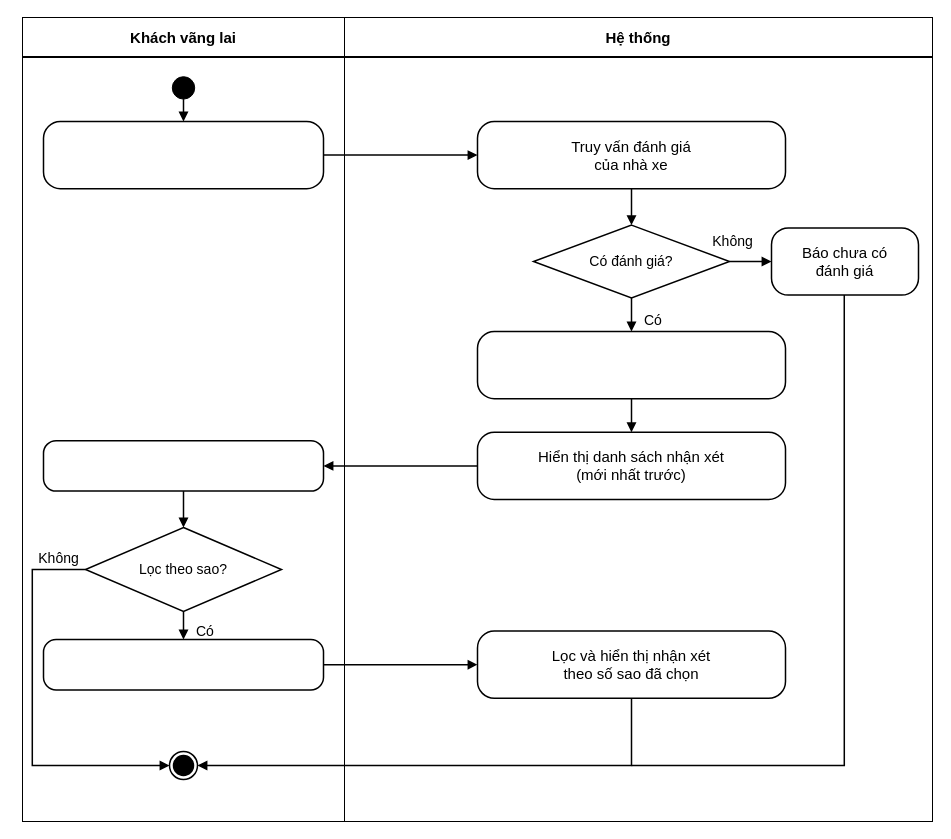
This 951x839 diagram has some shape labels left out. Each missing label, with the centre of its shape:
"Chọn mục Đánh giá của nhà xe" goes at pixel 183 154.
"Chọn số sao cần xem" goes at pixel 183 664.
"Hiển thị điểm sao trung bình, tổng lượt" goes at pixel 631 364.
"Xem điểm và nhận xét" goes at pixel 183 465.
